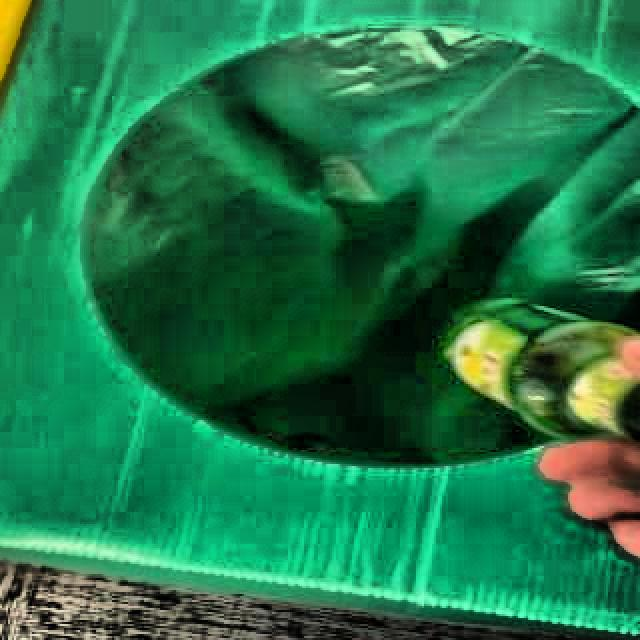glass: (444, 302, 640, 447)
